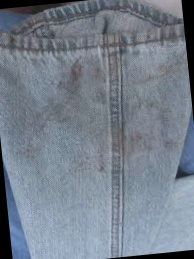earth: (106, 127, 152, 160), (67, 61, 108, 88), (158, 63, 172, 76)
